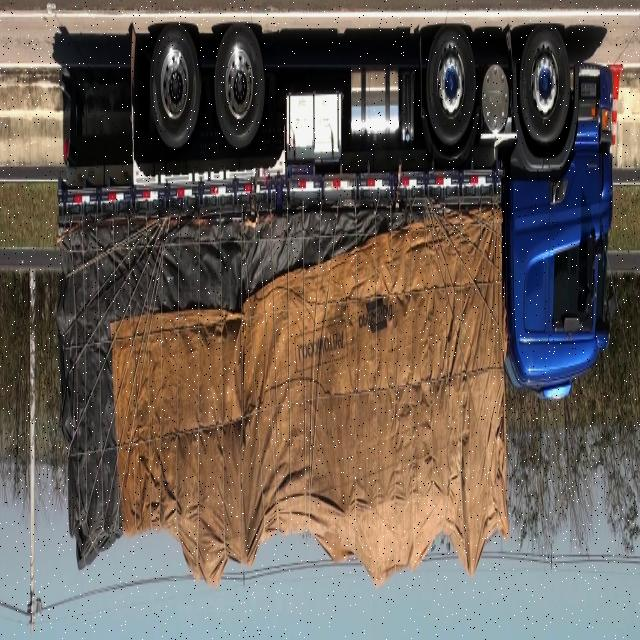-axle: (151, 25, 203, 146), (521, 25, 572, 146), (426, 24, 476, 144), (216, 28, 265, 144)
